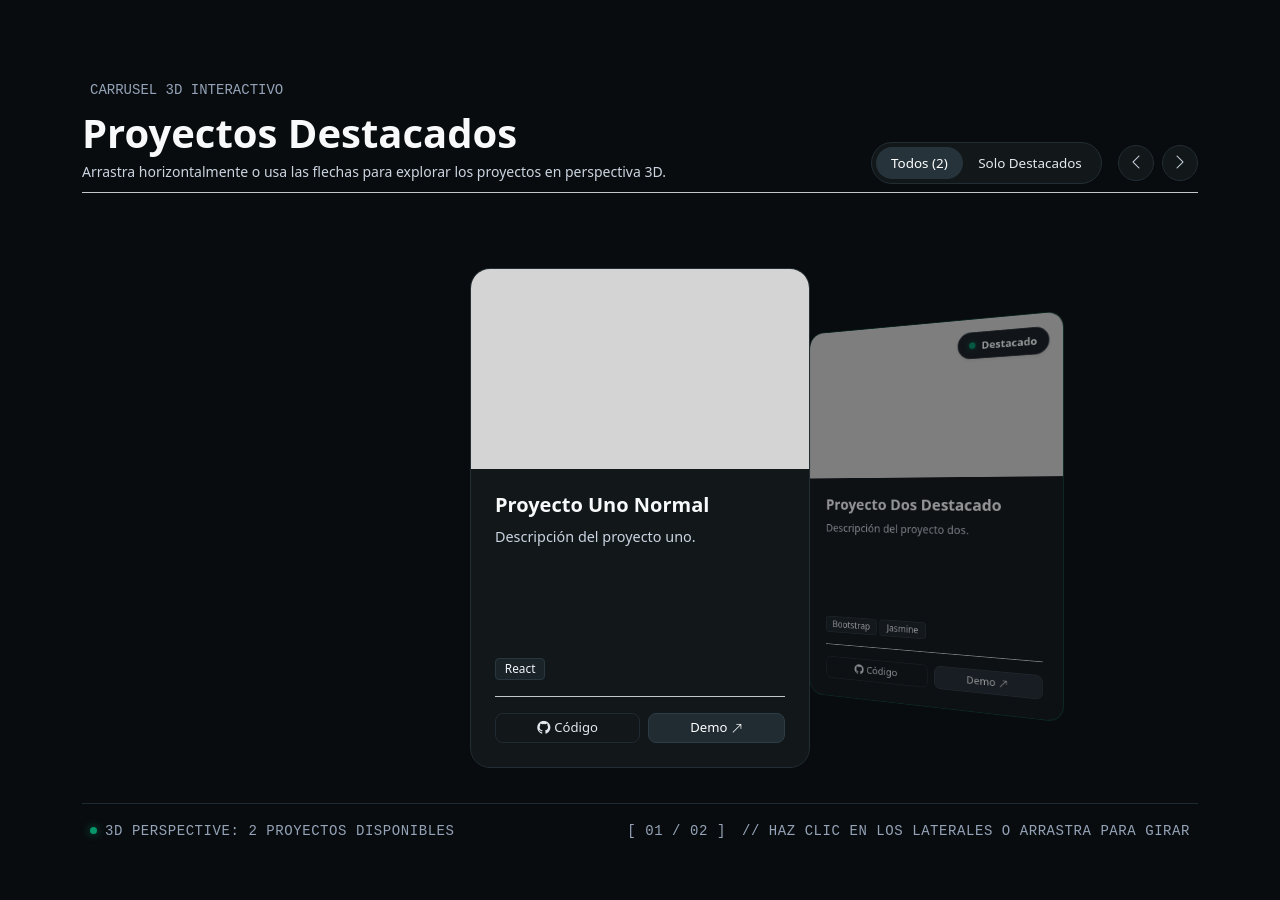
Test case: Componente Projects (Manejo de estado y filtrado) › debe filtrar proyectos y mostrar solo los destacados al hacer clic en el filtro
Click the button "Solo Destacados" at (1030, 163), box top-left (963, 147), bottom-right (1097, 179)
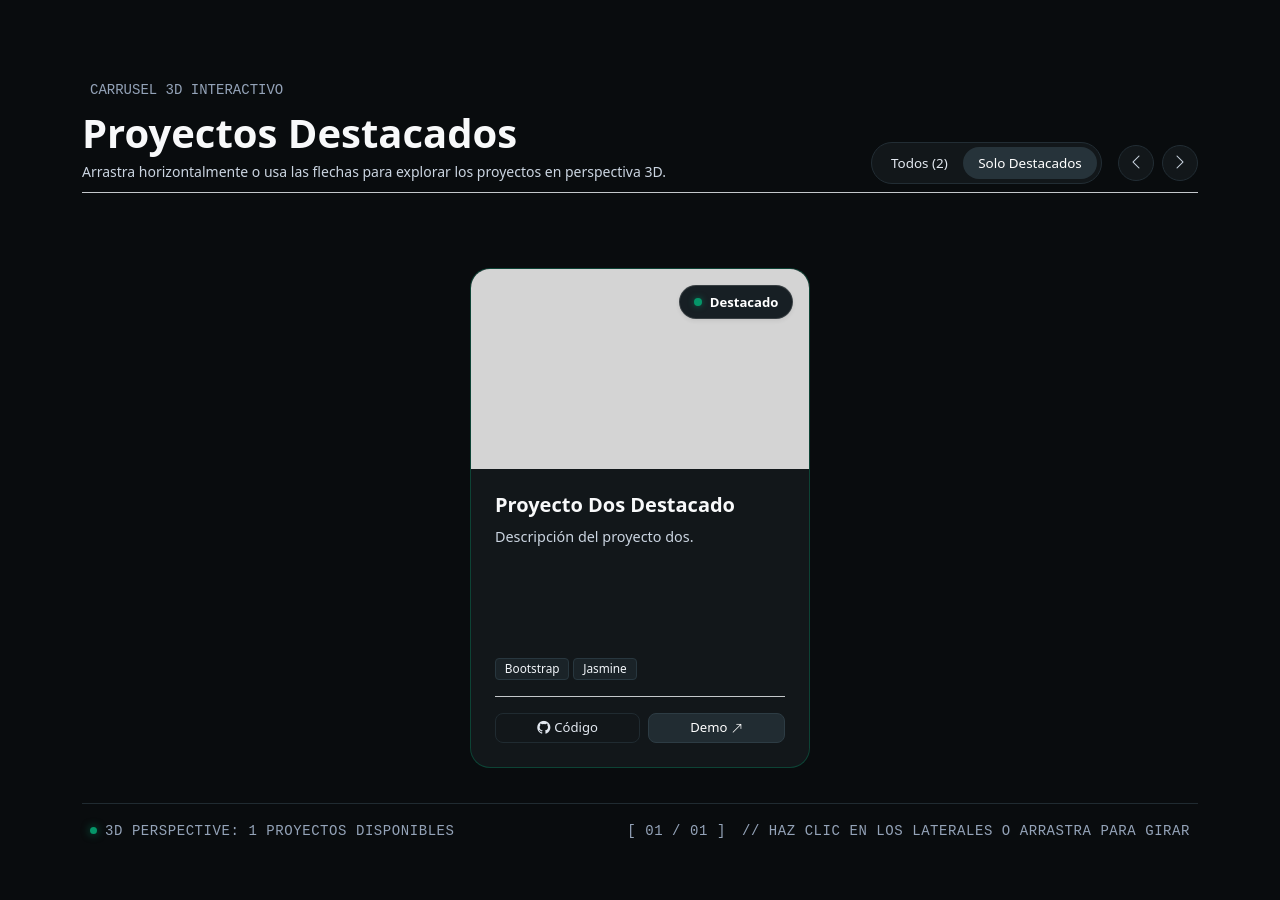
Expected: the heading "Proyecto Dos Destacado" is shown, top-left (495, 491), bottom-right (735, 518)
Expected: the heading "Proyecto Uno Normal" is gone
Click the button "Todos (2)" at (919, 163), box top-left (876, 147), bottom-right (963, 179)
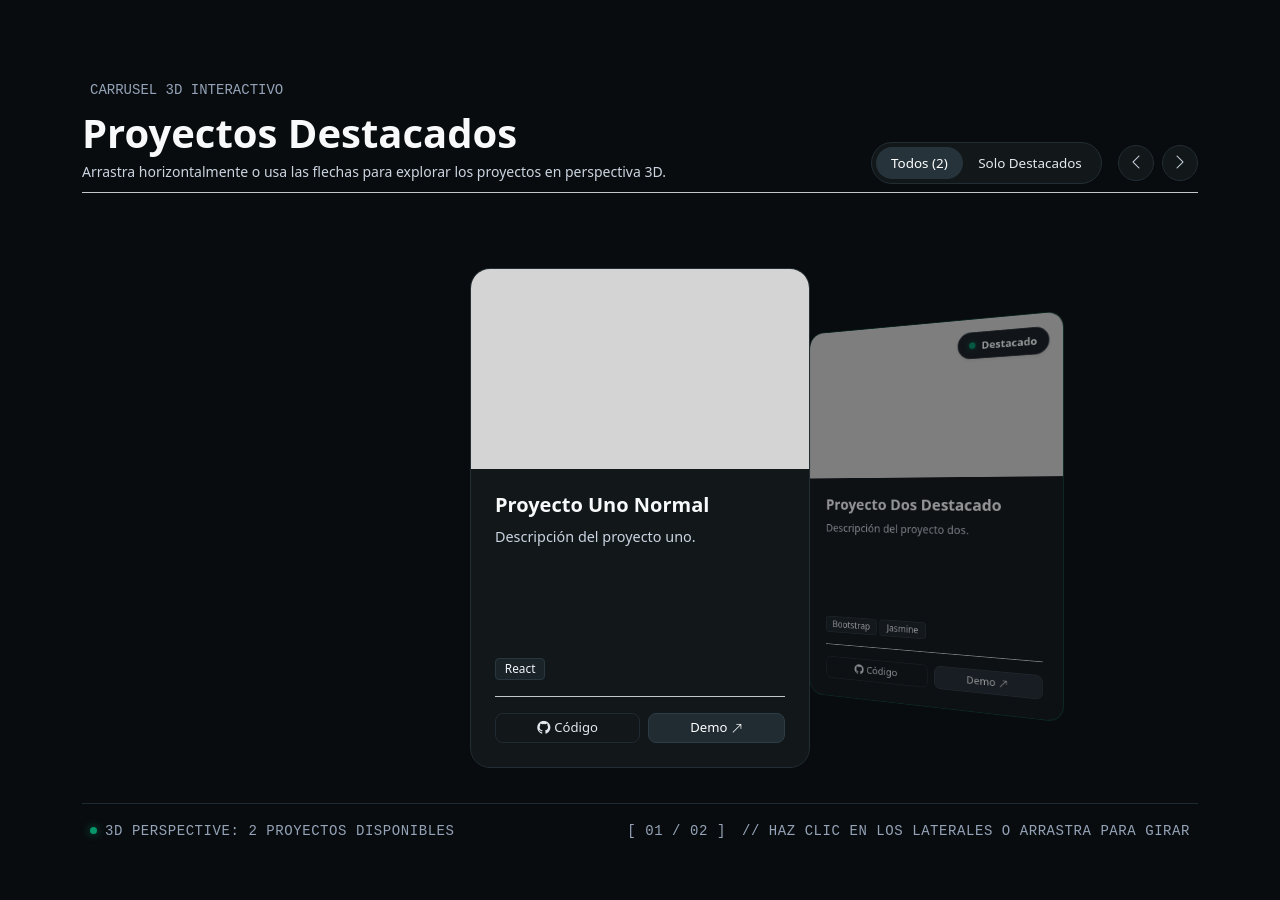
Expected: the heading "Proyecto Uno Normal" is shown, top-left (495, 491), bottom-right (709, 518)
